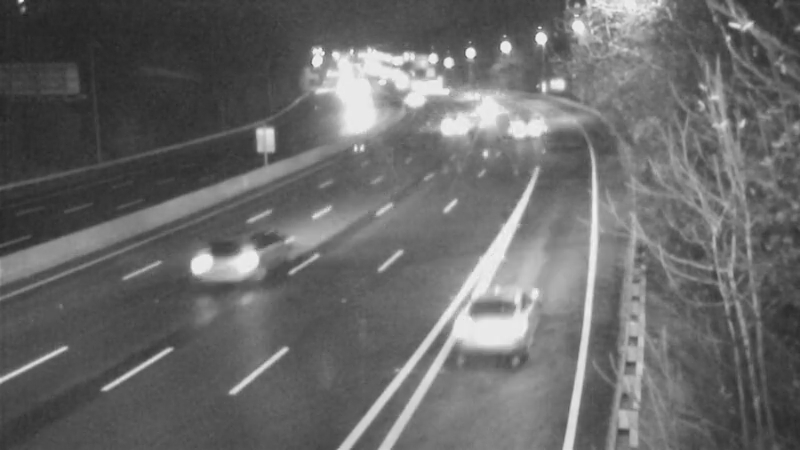vehicle: (432, 275, 542, 385), (179, 228, 259, 308), (386, 71, 436, 121), (446, 72, 496, 122), (459, 81, 509, 131), (428, 98, 478, 148), (502, 98, 552, 148), (326, 95, 376, 145)
